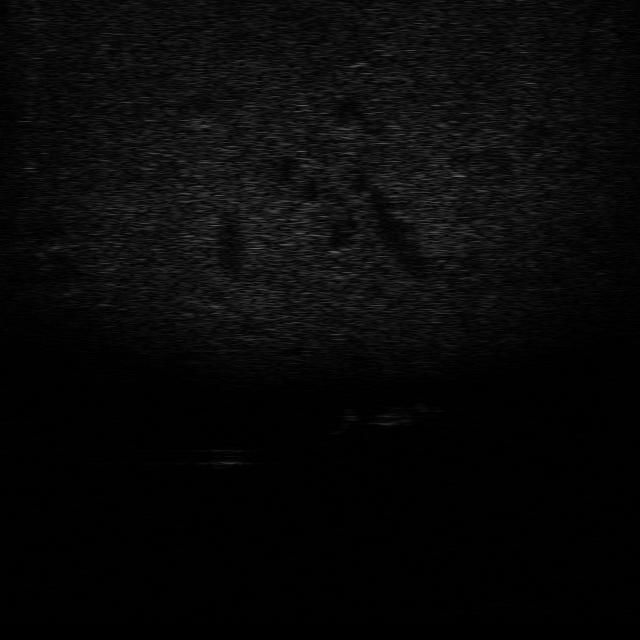ball: (188, 443, 252, 469)
human body: (330, 399, 442, 432)
